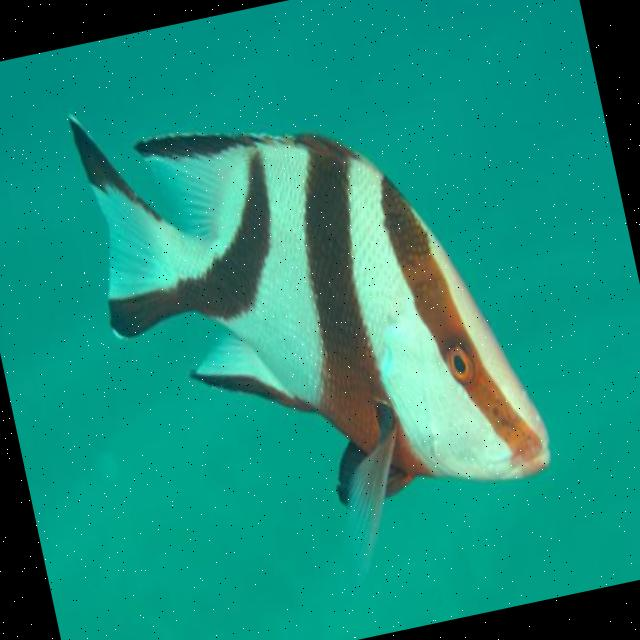ikan: (64, 26, 572, 622)
